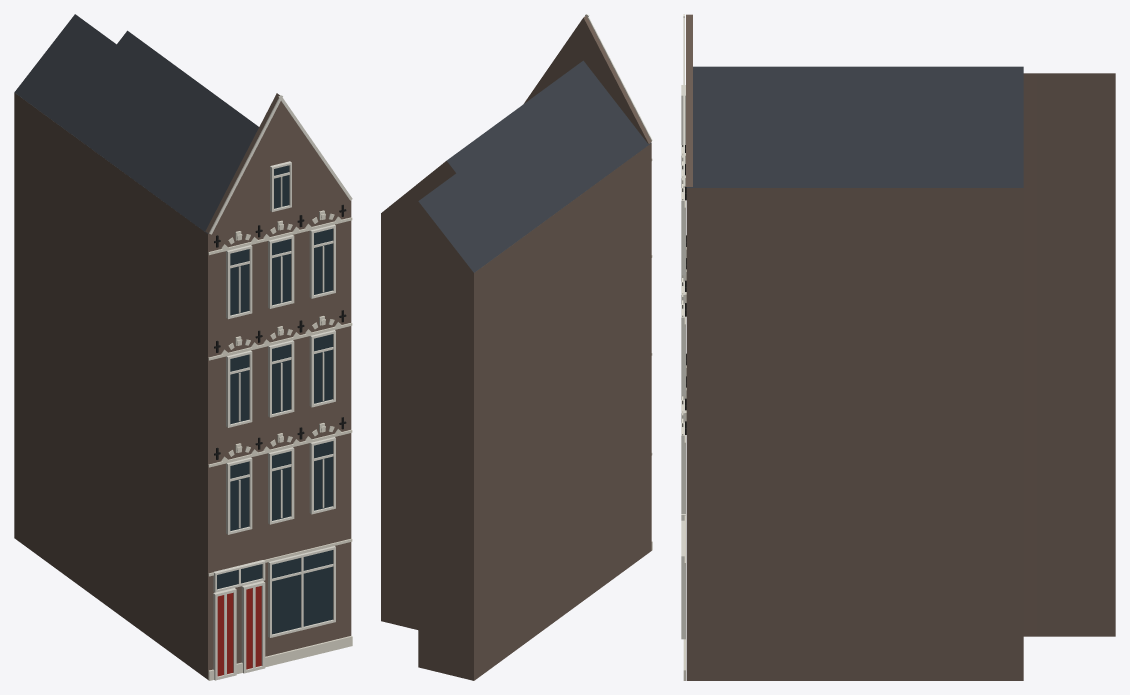
3 renders of one model, left to right at view 1: azimuth 30°, elevation 25°; view 2: azimuth 150°, elevation 25°; view 3: azimuth 270°, elevation 25°, orthographic. The views are drawn at different scales.
Visible parts, largest first — view 1: spec-0363100012159242; view 2: spec-0363100012159242; view 3: spec-0363100012159242.
Boxes of the visible parts, x1=… form: spec-0363100012159242: x1=14, y1=14, x2=352, y2=680; spec-0363100012159242: x1=381, y1=14, x2=652, y2=680; spec-0363100012159242: x1=681, y1=14, x2=1115, y2=680.
Size of the model in its own units: 4.7 by 17.83 by 11.17.
